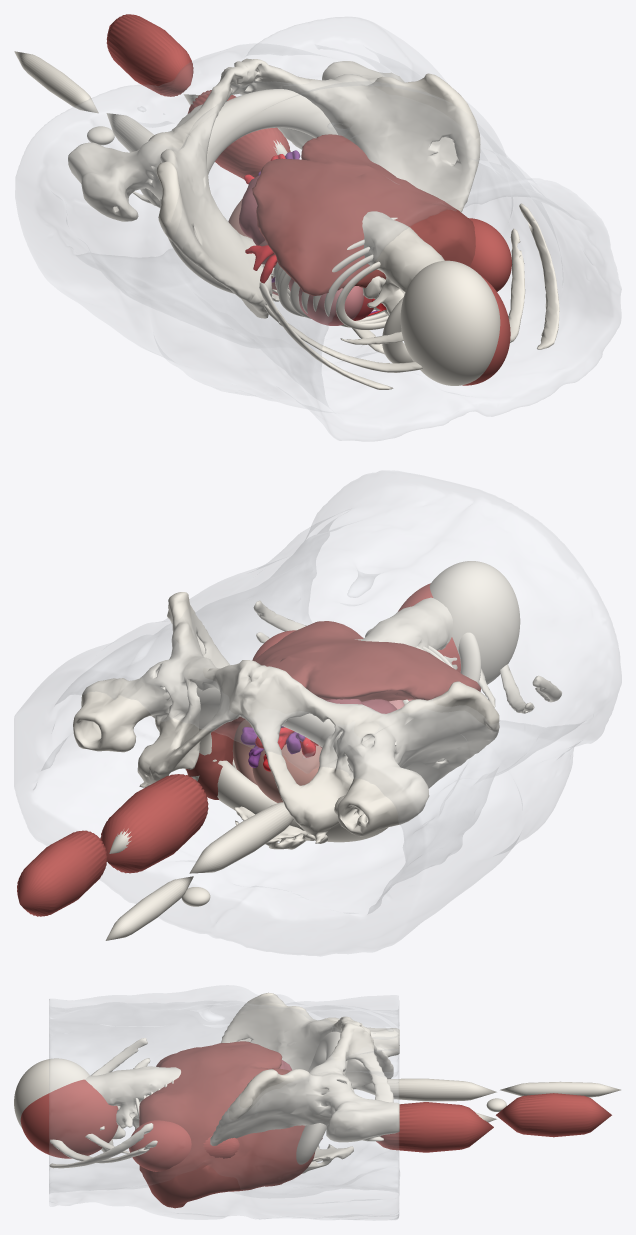
File: Human_Torso_Anatomy_Full.fbx
3 views of the same model, one above another, from view 1: azimuth 30°, elevation 25°; view 2: azimuth 150°, elevation 25°; view 3: azimuth 270°, elevation 25° (orthographic). The views are drawn at different scales.
Visible parts, largest first — view 1: Body_Silhouette, Spine, Liver, Skull_Cranium, Pelvis, Muscle_Calf, Ribcage, Muscle_Quadriceps, Muscle_Deltoid, Tibia, Lung_Left, Muscle_Face (+4 smaller); view 2: Body_Silhouette, Spine, Liver, Muscle_Quadriceps, Skull_Cranium, Muscle_Calf, Pelvis, Femur_L, Tibia, Small_Intestines, Mandible, Vena_Cava (+2 smaller); view 3: Body_Silhouette, Spine, Liver, Muscle_Face, Muscle_Quadriceps, Muscle_Calf, Skull_Cranium, Femur_L, Muscle_Deltoid, Pelvis, Tibia, Muscle_Biceps.
Part boxes in pixels (x1=…): Body_Silhouette: x1=15, y1=17, x2=621, y2=441; Spine: x1=68, y1=58, x2=559, y2=389; Liver: x1=252, y1=134, x2=475, y2=295; Skull_Cranium: x1=400, y1=260, x2=500, y2=385; Pelvis: x1=160, y1=89, x2=337, y2=293; Muscle_Calf: x1=106, y1=14, x2=193, y2=96; Ribcage: x1=273, y1=217, x2=397, y2=329; Muscle_Quadriceps: x1=187, y1=90, x2=290, y2=179; Muscle_Deltoid: x1=468, y1=218, x2=511, y2=291; Tibia: x1=14, y1=51, x2=98, y2=113; Lung_Left: x1=288, y1=278, x2=364, y2=325; Muscle_Face: x1=462, y1=276, x2=510, y2=385; Body_Silhouette: x1=14, y1=470, x2=621, y2=956; Spine: x1=73, y1=592, x2=561, y2=849; Liver: x1=186, y1=621, x2=480, y2=799; Muscle_Quadriceps: x1=100, y1=774, x2=208, y2=873; Skull_Cranium: x1=429, y1=561, x2=520, y2=684; Muscle_Calf: x1=17, y1=830, x2=107, y2=916; Pelvis: x1=185, y1=687, x2=387, y2=842; Femur_L: x1=189, y1=802, x2=293, y2=873; Tibia: x1=105, y1=876, x2=193, y2=940; Small_Intestines: x1=252, y1=744, x2=321, y2=802; Mandible: x1=458, y1=632, x2=481, y2=683; Vena_Cava: x1=240, y1=726, x2=305, y2=767; Body_Silhouette: x1=49, y1=985, x2=399, y2=1220; Spine: x1=49, y1=992, x2=399, y2=1173; Liver: x1=139, y1=1041, x2=322, y2=1208; Muscle_Face: x1=20, y1=1079, x2=118, y2=1158; Muscle_Quadriceps: x1=376, y1=1102, x2=493, y2=1152; Muscle_Calf: x1=496, y1=1093, x2=611, y2=1137; Skull_Cranium: x1=14, y1=1058, x2=89, y2=1128; Femur_L: x1=355, y1=1078, x2=496, y2=1101; Muscle_Deltoid: x1=129, y1=1120, x2=191, y2=1171; Pelvis: x1=296, y1=1031, x2=348, y2=1164; Tibia: x1=500, y1=1081, x2=620, y2=1097; Muscle_Biceps: x1=203, y1=1136, x2=239, y2=1158.
Bounding box in the file's own units: 0.9865 × 0.6396 × 1.81.
